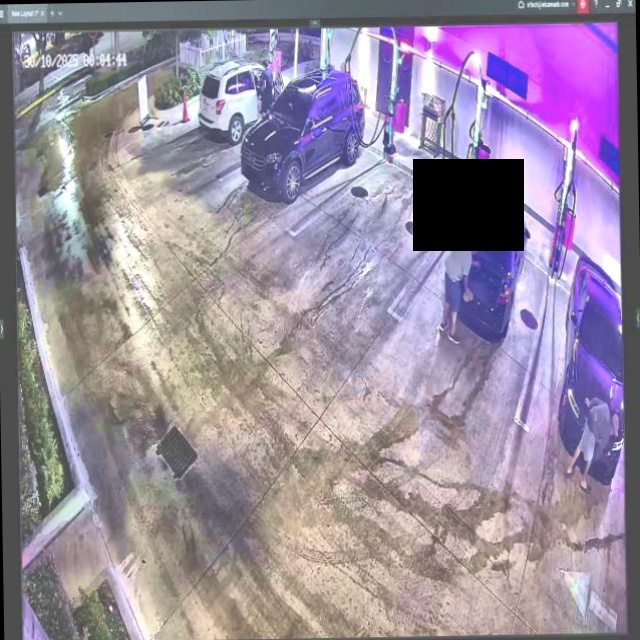Car: (239, 65, 365, 200), (448, 191, 531, 340), (197, 63, 293, 139)
